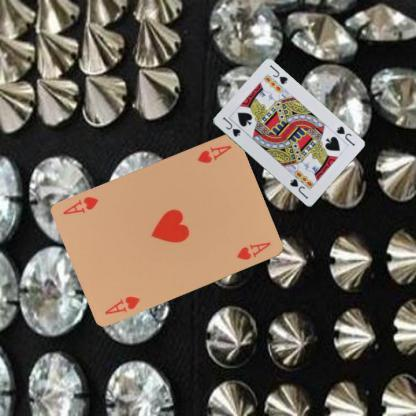Ah: (102, 292, 141, 315), (195, 142, 233, 165)
Js: (219, 114, 242, 138), (333, 124, 356, 147)
